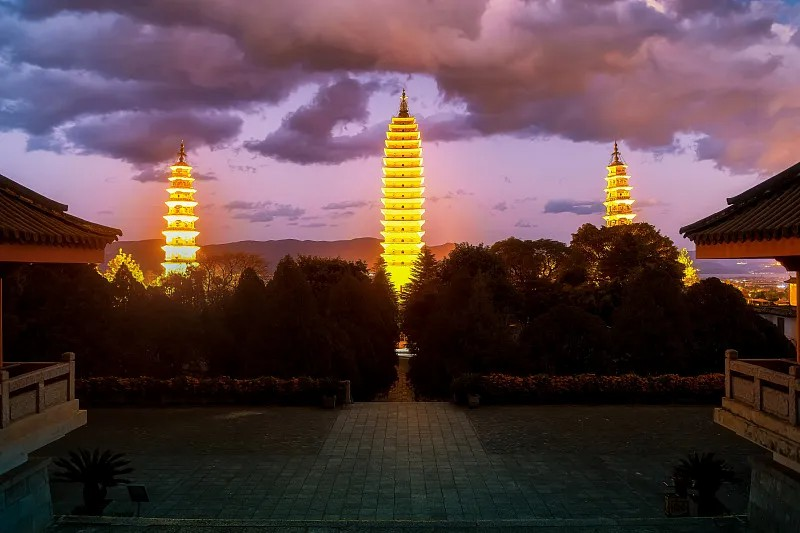ThreePagoda: (380, 89, 426, 292)
